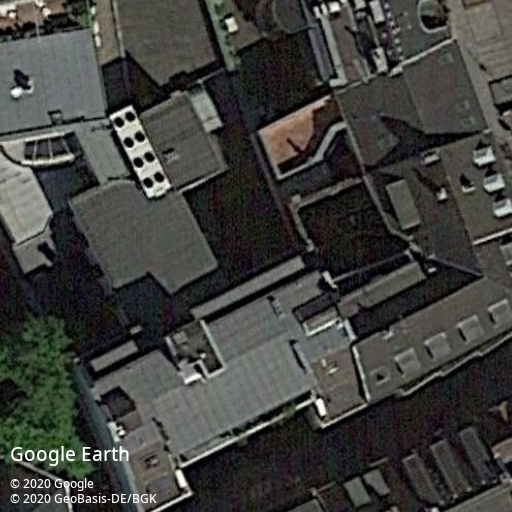Chiller: (109, 104, 173, 200)
